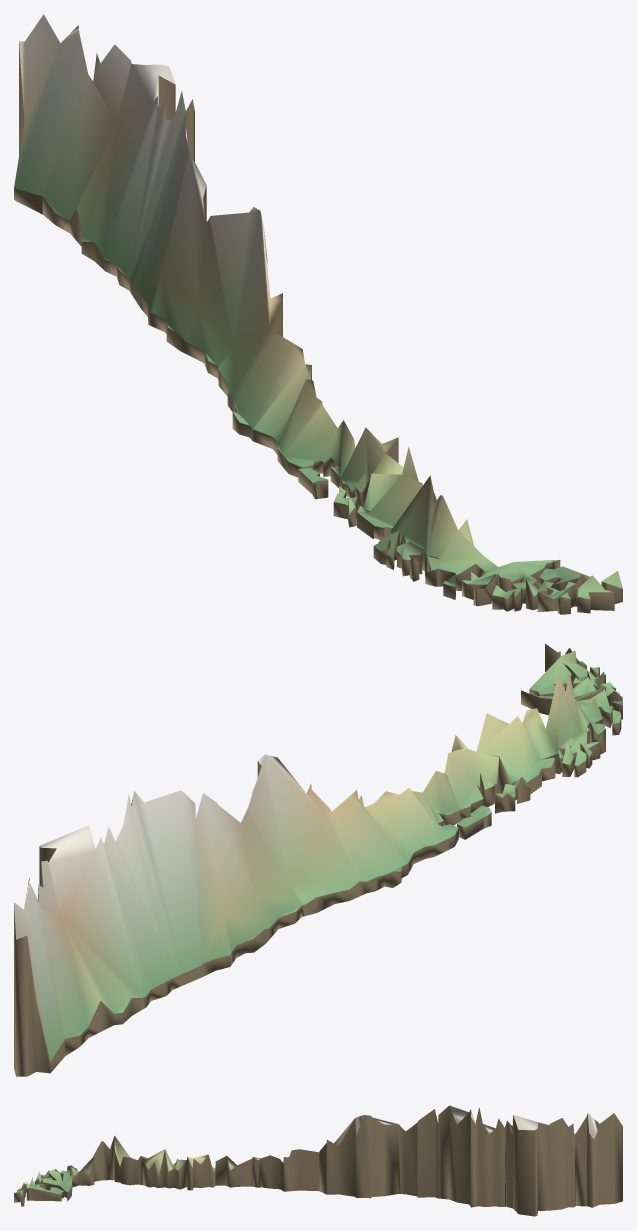
Rendered from CHL.glb.
The picture shows the model from 3 angles, top to bottom: view 1: azimuth 30°, elevation 25°; view 2: azimuth 150°, elevation 25°; view 3: azimuth 270°, elevation 25°; orthographic projection. The views are drawn at different scales.
Parts seen in each view (by area): view 1: CHL; view 2: CHL; view 3: CHL.
Boxes of the visible parts, x1,y1,x2,y2 form: CHL: (14,14,622,614); CHL: (14,643,622,1076); CHL: (14,1105,622,1216).
Bounding box in the file's own units: 0.3416 × 0.338 × 1.87.
